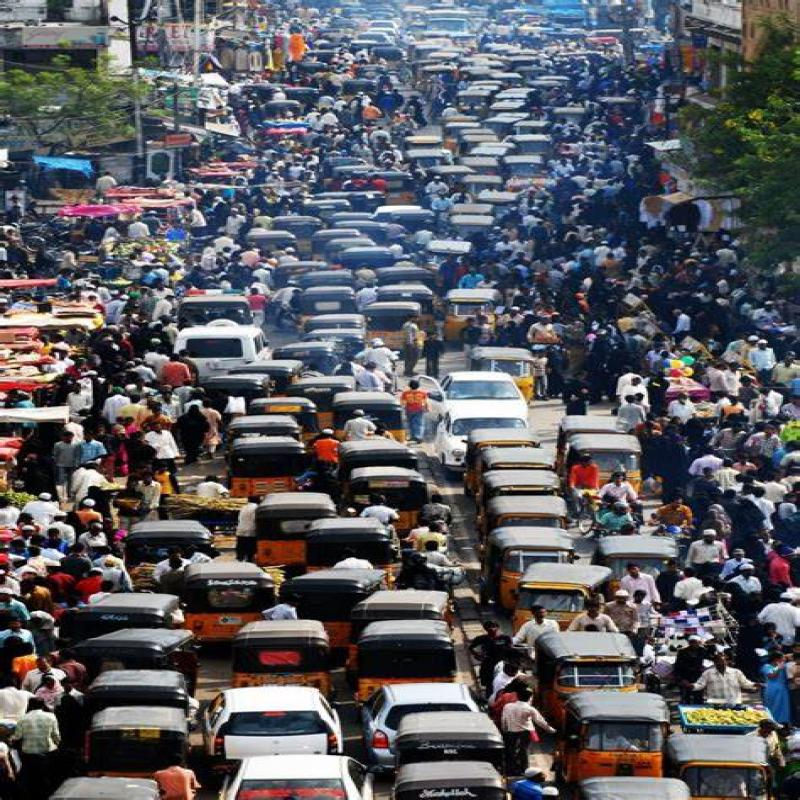auto: (586, 693, 720, 787), (220, 619, 356, 692), (366, 610, 478, 688), (223, 434, 339, 508), (510, 574, 597, 642), (493, 529, 579, 591), (243, 494, 331, 551), (116, 529, 213, 572)
car: (197, 688, 366, 800), (451, 370, 562, 439), (175, 321, 282, 377)
